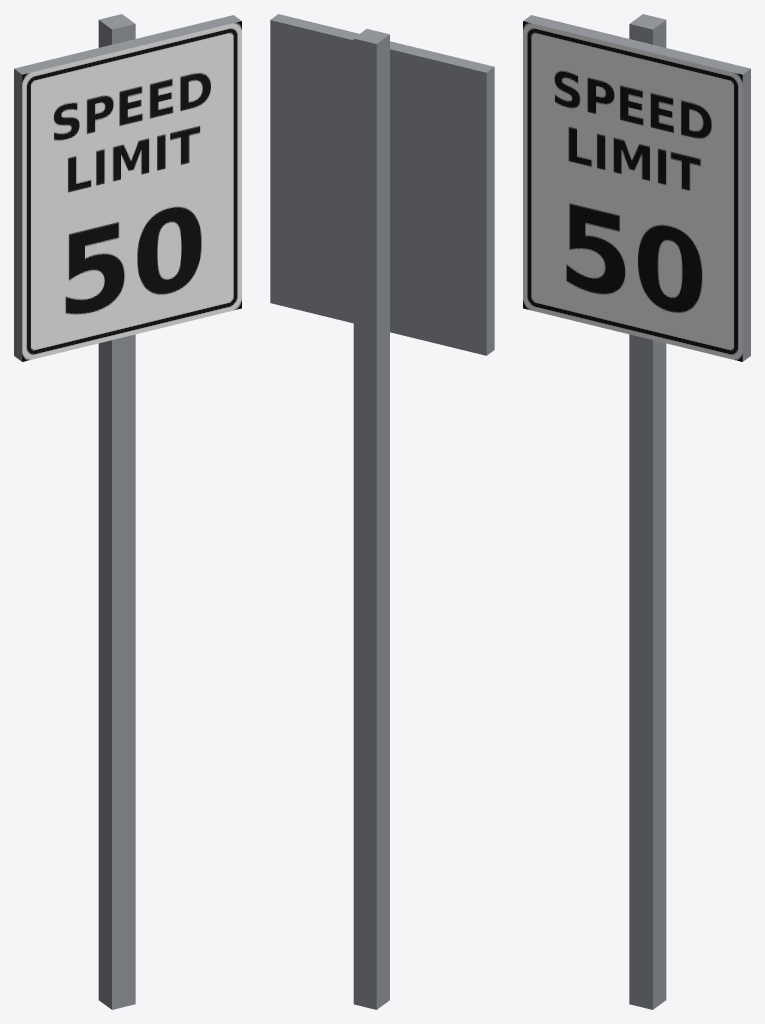
The model's file is us_speed50.dae.
3 renders of one model, left to right at view 1: azimuth 30°, elevation 25°; view 2: azimuth 150°, elevation 25°; view 3: azimuth 330°, elevation 25°, orthographic.
Parts seen in each view (by area): view 1: sign4, Colmesh-1; view 2: Colmesh-1, sign4; view 3: sign4, Colmesh-1.
Part boxes in pixels (x1,y1,x2,y2): sign4: [22, 14, 241, 1009]; Colmesh-1: [14, 15, 241, 361]; Colmesh-1: [270, 14, 494, 355]; sign4: [353, 29, 389, 1009]; sign4: [523, 14, 742, 1009]; Colmesh-1: [523, 15, 750, 361].
Bounding box in the file's own units: 0.6096 × 0.105 × 2.6.
Materials: 2 (1 with a texture image).
